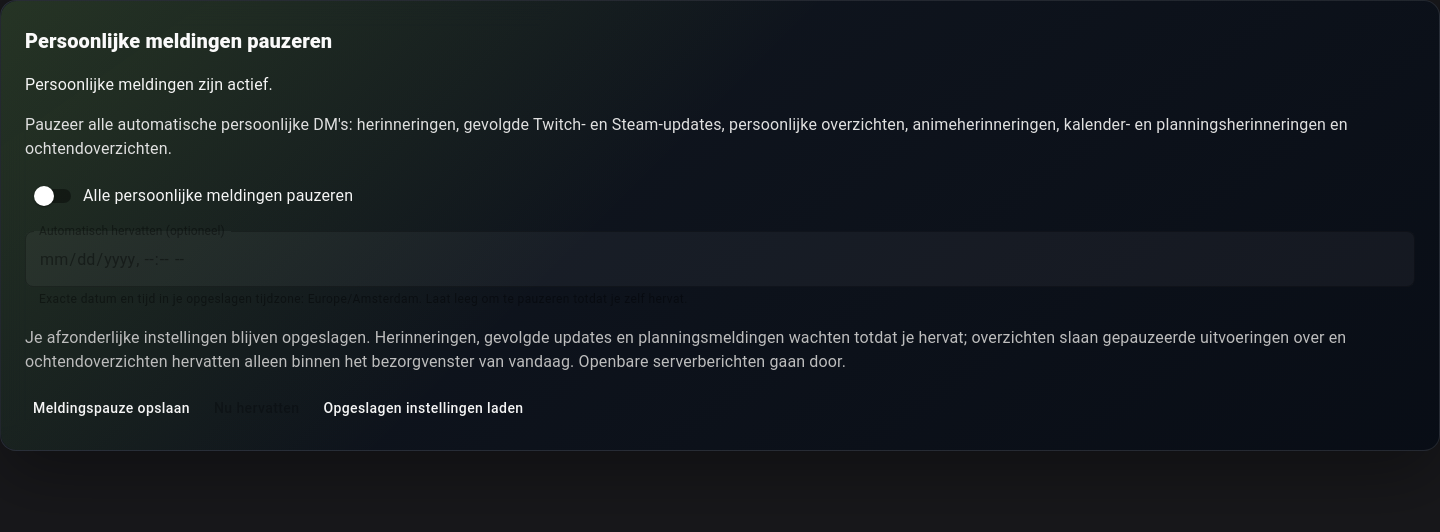
Test: personal notification pause controls › defaults off and explicitly saves indefinite pause and resume in nl
The width and height of the screenshot is (1440, 532).
Click the switch labelled "Alle persoonlijke meldingen pauzeren" at (194, 196), box [34, 186, 353, 206]
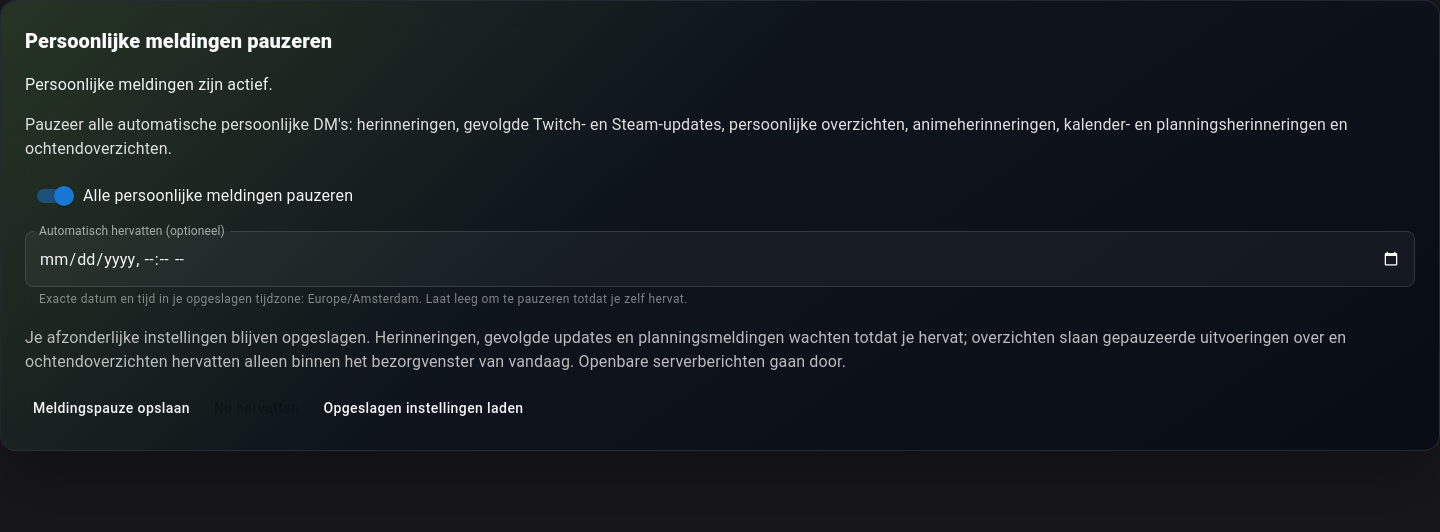
Click the button "Meldingspauze opslaan" at (112, 408), box [25, 390, 198, 426]
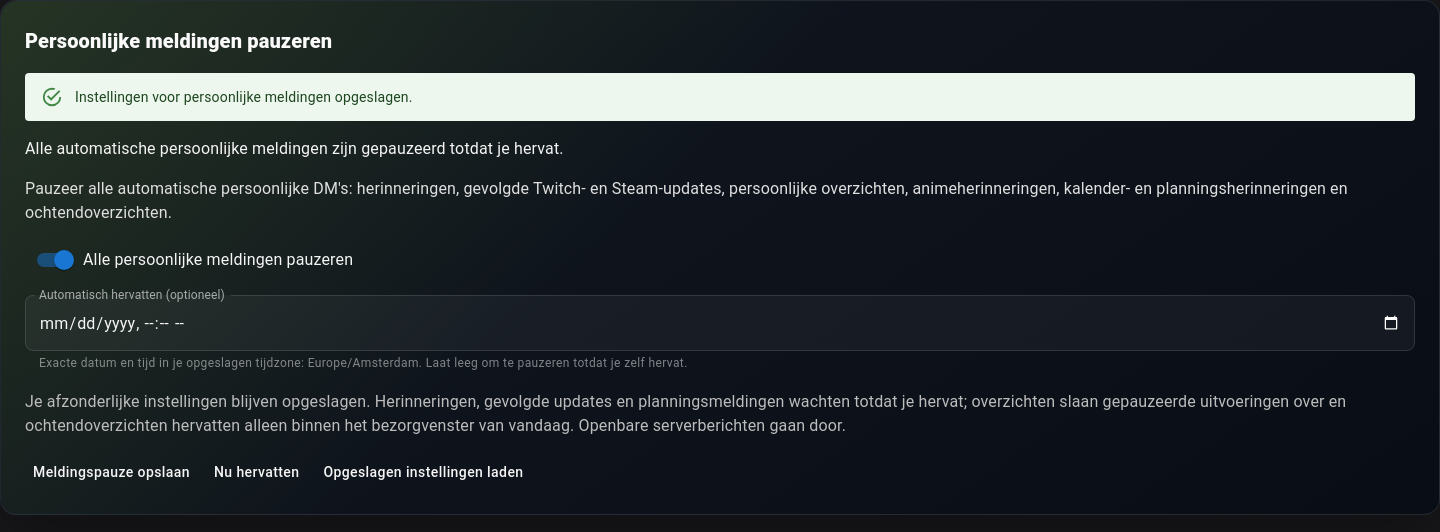
Expected: the text "Alle automatische persoonlijke meldingen zijn gepauzeerd totdat je hervat." is shown, [25, 139, 564, 158]
Click the button "Nu hervatten" at (257, 472), box [206, 454, 307, 490]
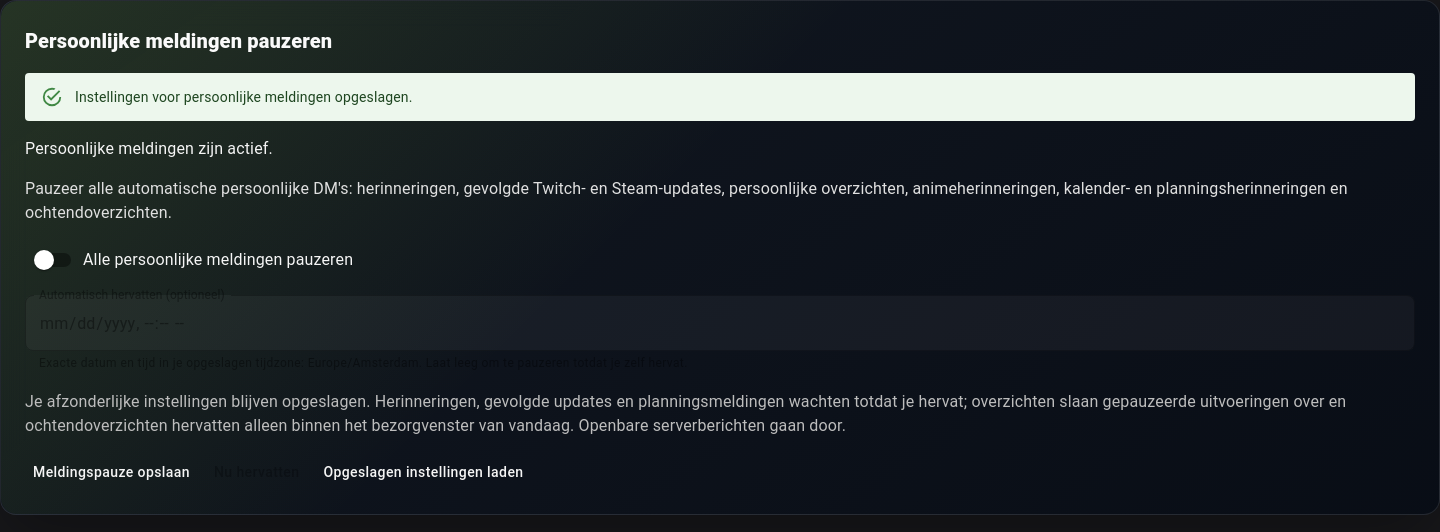
Expected: the text "Persoonlijke meldingen zijn actief." is shown, [25, 139, 273, 158]
